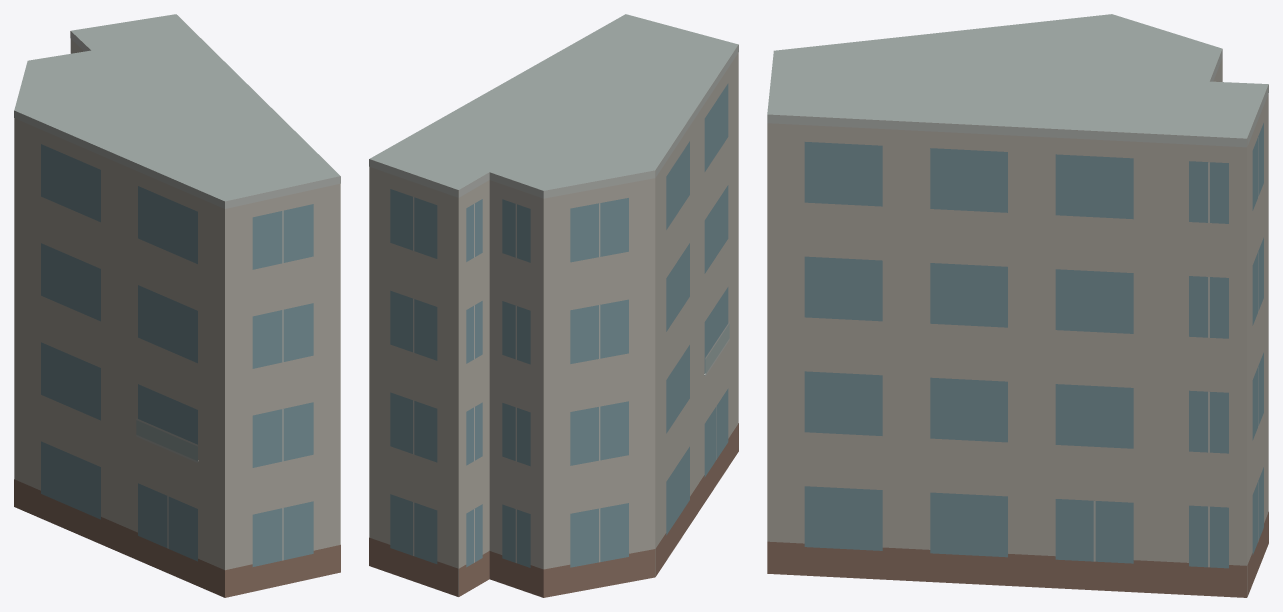
File: survey-upis-32485982.glb
3 views of the same model, side by side, from view 1: azimuth 30°, elevation 25°; view 2: azimuth 150°, elevation 25°; view 3: azimuth 270°, elevation 25° (orthographic). The views are drawn at different scales.
Visible parts, largest first — view 1: survey-upis-32485982.tmp; view 2: survey-upis-32485982.tmp; view 3: survey-upis-32485982.tmp.
Part boxes in pixels (x1=…): survey-upis-32485982.tmp: x1=14, y1=14, x2=340, y2=597; survey-upis-32485982.tmp: x1=369, y1=14, x2=738, y2=597; survey-upis-32485982.tmp: x1=767, y1=14, x2=1268, y2=597.
Bounding box in the file's own units: 7.46 × 12.8 × 12.68.
